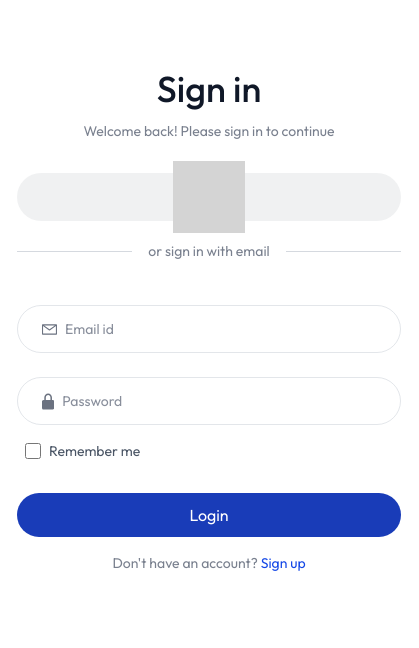
Test case: Login — sign-up mode validation › blocks submit when password is under 6 characters
Click the button "Sign up" at (283, 563), box [261, 553, 306, 573]
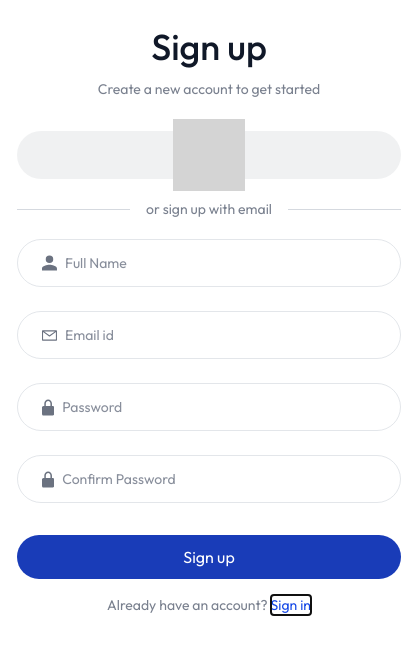
Type "Ada" into the field with placeholder "Full Name" at (232, 263), box [65, 240, 400, 286]
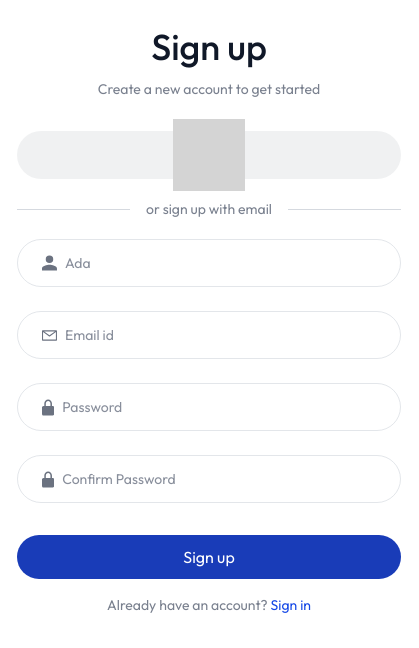
Type "ada@x.com" into the field with placeholder "Email id" at (232, 335), box [65, 312, 400, 358]
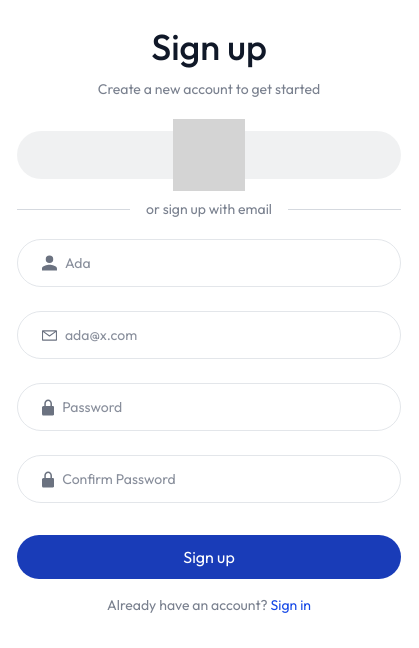
Type "short" into the password field with placeholder "Password" at (231, 407), box [62, 384, 400, 430]
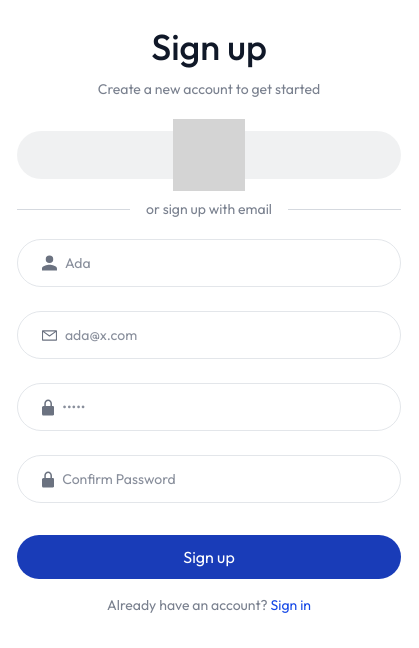
Type "short" into the password field with placeholder "Confirm Password" at (231, 479), box [62, 456, 400, 502]
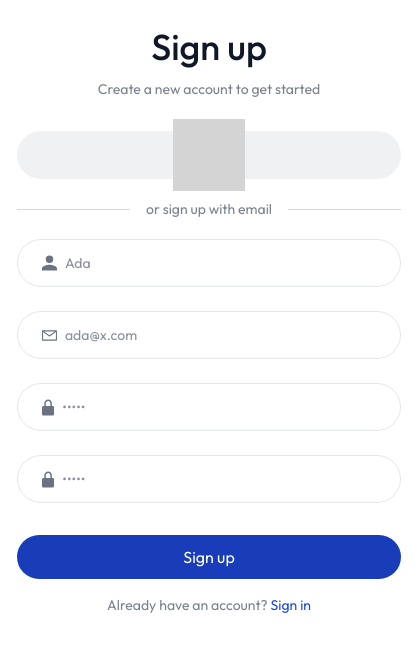
Click the button "Sign up" at (209, 557), box [17, 535, 401, 579]
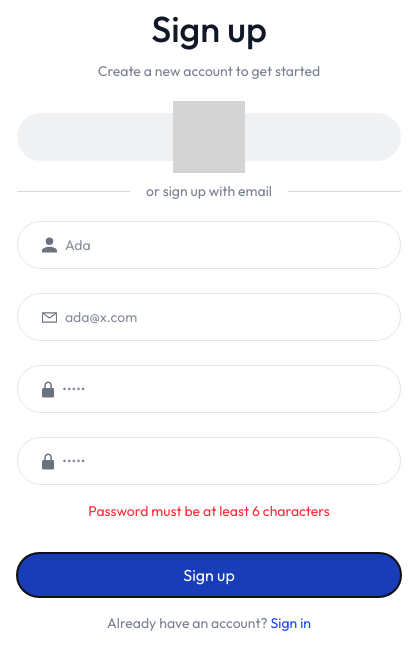
expect the text "Password must be at least 6 characters" is shown: met, box [88, 501, 330, 521]
